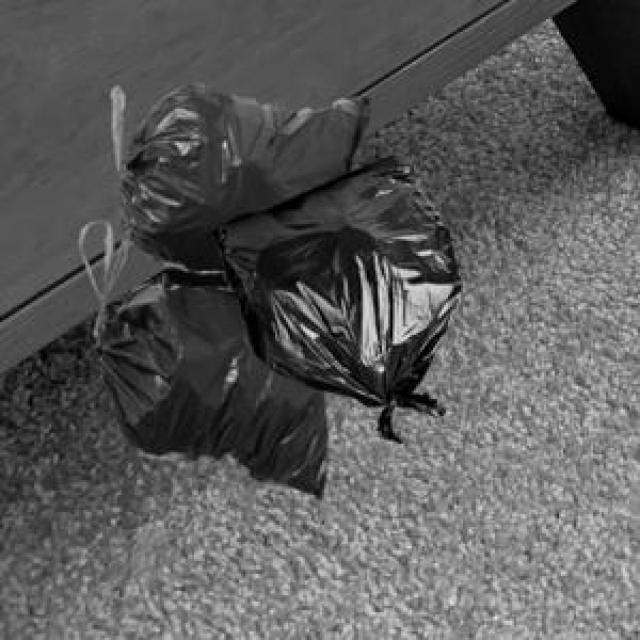miscellaneous trash: (90, 79, 365, 495), (207, 152, 457, 440), (147, 265, 227, 286)
